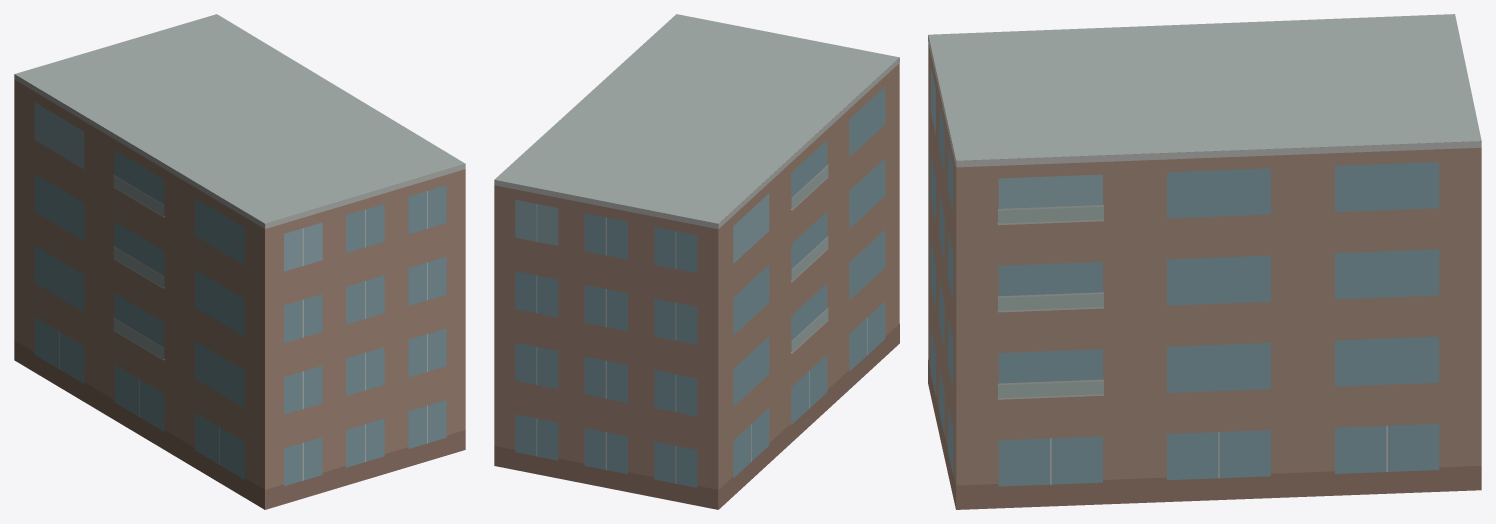
The model's file is survey-upis-32917310.glb.
3 views of the same model, side by side, from view 1: azimuth 30°, elevation 25°; view 2: azimuth 150°, elevation 25°; view 3: azimuth 270°, elevation 25° (orthographic). The views are drawn at different scales.
Parts seen in each view (by area): view 1: survey-upis-32917310.tmp; view 2: survey-upis-32917310.tmp; view 3: survey-upis-32917310.tmp.
Boxes of the visible parts, left/top/right/bottom form: survey-upis-32917310.tmp: left=14, top=14, right=465, bottom=509; survey-upis-32917310.tmp: left=494, top=14, right=899, bottom=509; survey-upis-32917310.tmp: left=928, top=14, right=1481, bottom=509.
Size of the model in its own units: 11.55 by 12.8 by 18.4.
